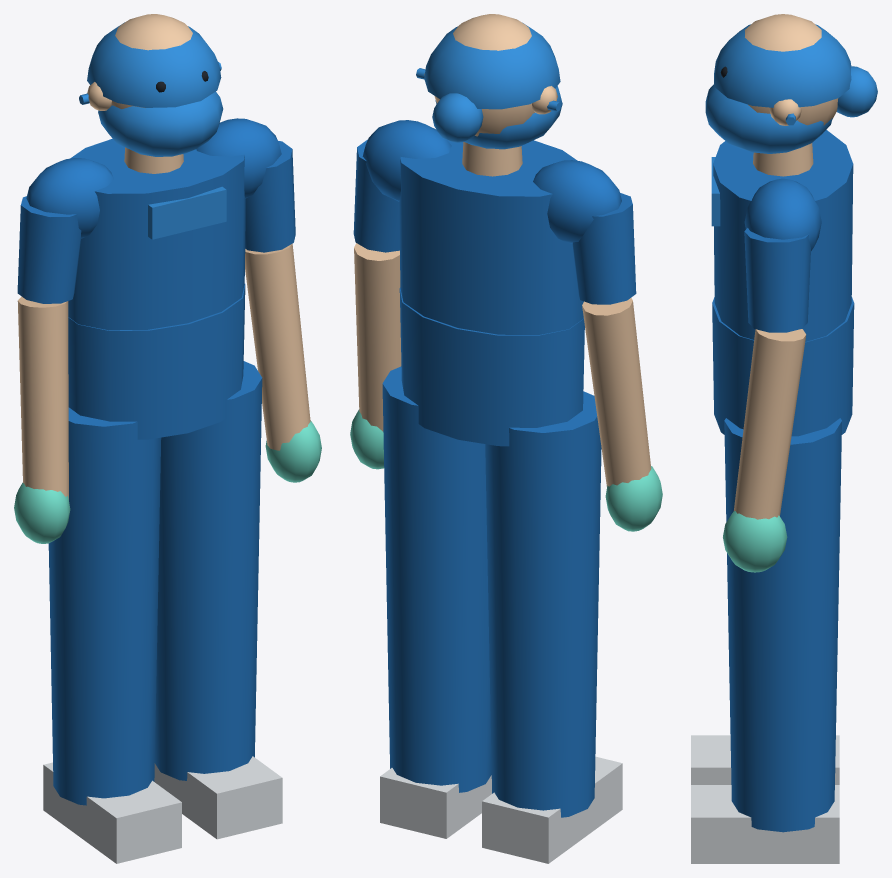
Rendered from staff_nurse.glb.
The picture shows the model from 3 angles, left to right: view 1: azimuth 30°, elevation 25°; view 2: azimuth 150°, elevation 25°; view 3: azimuth 270°, elevation 25°; orthographic projection.
Parts seen in each view (by area): view 1: staff_nurse_scrub, staff_nurse_skin, staff_nurse_scrubHi, staff_nurse_shoe, staff_nurse_glove; view 2: staff_nurse_scrub, staff_nurse_skin, staff_nurse_shoe, staff_nurse_scrubHi, staff_nurse_glove; view 3: staff_nurse_scrub, staff_nurse_skin, staff_nurse_scrubHi, staff_nurse_shoe, staff_nurse_glove.
Boxes of the visible parts, x1=… form: staff_nurse_scrub: x1=17, y1=118, x2=295, y2=805; staff_nurse_skin: x1=17, y1=14, x2=310, y2=499; staff_nurse_scrubHi: x1=79, y1=22, x2=226, y2=239; staff_nurse_shoe: x1=43, y1=756, x2=282, y2=863; staff_nurse_glove: x1=14, y1=420, x2=321, y2=543; staff_nurse_scrub: x1=353, y1=120, x2=636, y2=817; staff_nurse_skin: x1=354, y1=14, x2=651, y2=486; staff_nurse_shoe: x1=380, y1=756, x2=622, y2=863; staff_nurse_scrubHi: x1=416, y1=22, x2=562, y2=149; staff_nurse_glove: x1=350, y1=409, x2=662, y2=531; staff_nurse_scrub: x1=712, y1=130, x2=854, y2=832; staff_nurse_skin: x1=734, y1=14, x2=838, y2=519; staff_nurse_scrubHi: x1=705, y1=24, x2=877, y2=226; staff_nurse_shoe: x1=691, y1=735, x2=839, y2=863; staff_nurse_glove: x1=723, y1=511, x2=787, y2=572.
Size of the model in its own units: 0.6831 by 1.73 by 0.365.
